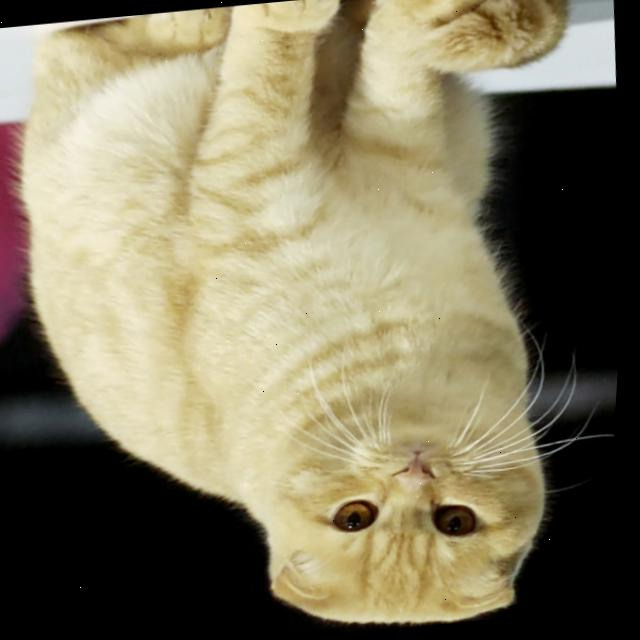Scottish Fold: (0, 0, 627, 640)
